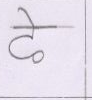e_matra: (18, 7, 38, 25)
